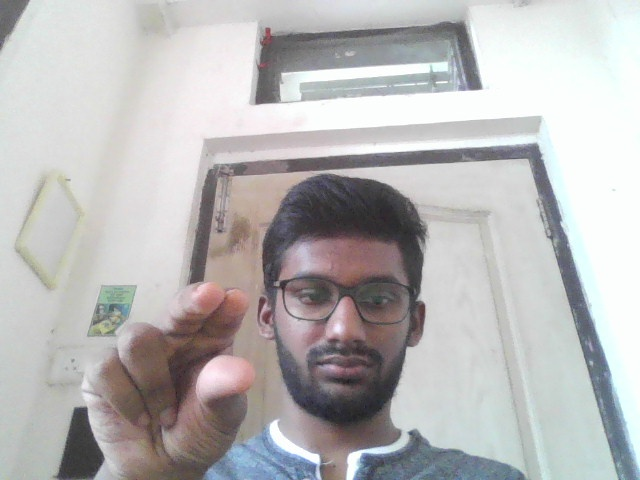No: (71, 276, 256, 480)
